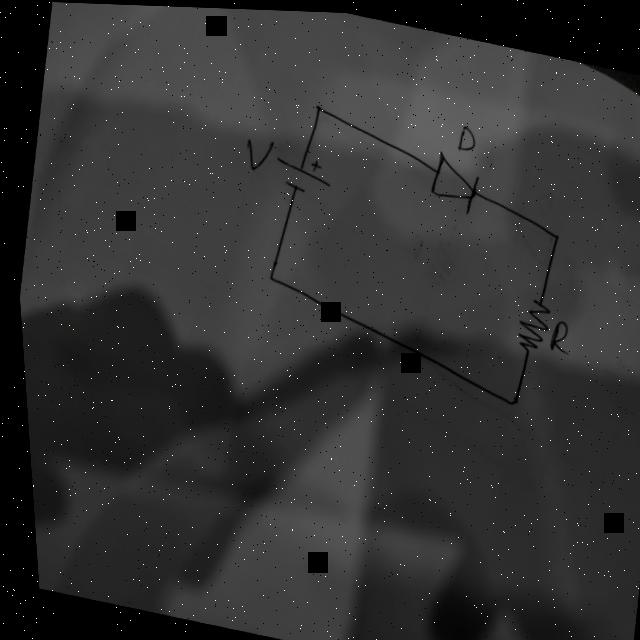diode: (421, 144, 483, 211)
junction: (310, 98, 323, 114), (501, 390, 513, 404), (261, 269, 272, 281), (547, 227, 558, 238)
resistor: (506, 288, 551, 353)
source: (267, 149, 332, 195)
text: (239, 132, 274, 171), (541, 312, 571, 350), (452, 118, 477, 151)
